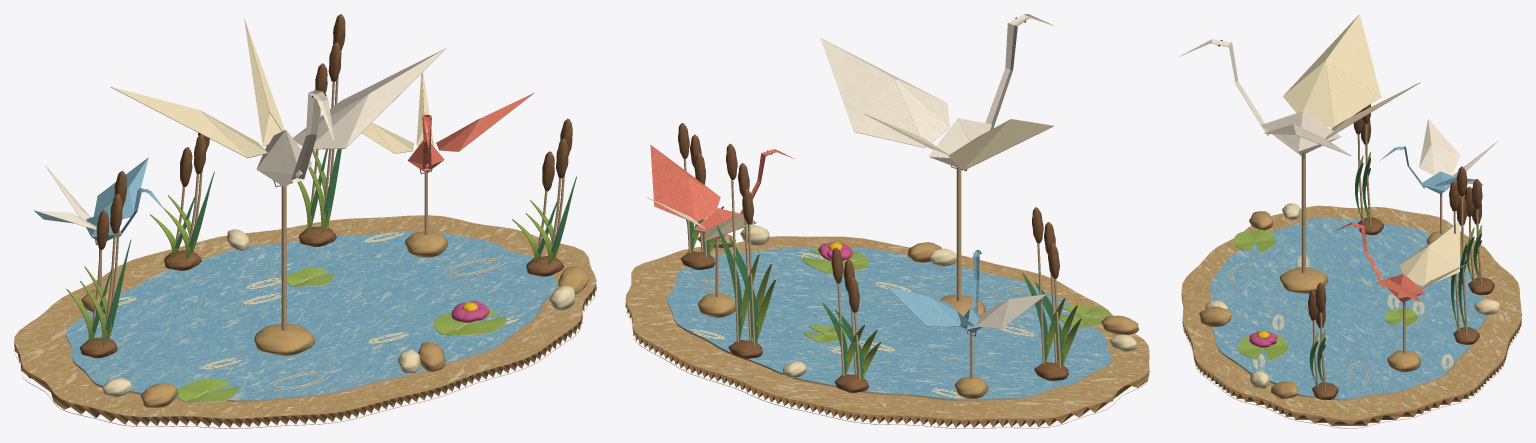
Rendered from 30_origami_crane_wetland.glb.
3 views of the same model, side by side, from view 1: azimuth 30°, elevation 25°; view 2: azimuth 150°, elevation 25°; view 3: azimuth 270°, elevation 25° (orthographic). The views are drawn at different scales.
Visible parts, largest first — view 1: artwork_30_origami_crane_wetland, paper, clay_brown, cream, lime, clay_sand, flute, green, wood, edge, coral, sky (+3 smaller); view 2: artwork_30_origami_crane_wetland, paper, clay_brown, lime, coral, flute, cream, clay_sand, green, wood, sky, edge (+2 smaller); view 3: artwork_30_origami_crane_wetland, cream, paper, clay_brown, clay_sand, lime, flute, wood, green, edge, coral, clay_cream (+2 smaller).
Part boxes in pixels (box(x1,y1,x2,y2)): artwork_30_origami_crane_wetland: box(14, 215, 596, 418); paper: box(34, 19, 534, 402); clay_brown: box(79, 14, 572, 358); cream: box(112, 19, 506, 398); lime: box(66, 149, 557, 401); clay_sand: box(81, 231, 588, 407); flute: box(14, 284, 596, 427); green: box(91, 149, 576, 339); wood: box(92, 76, 564, 346); edge: box(14, 285, 595, 428); coral: box(408, 93, 533, 172); sky: box(34, 157, 165, 240); artwork_30_origami_crane_wetland: box(625, 236, 1149, 419); paper: box(647, 14, 1102, 342); clay_brown: box(678, 123, 1068, 393); lime: box(691, 206, 1110, 379); coral: box(650, 145, 794, 239); flute: box(625, 303, 1149, 427); cream: box(649, 115, 1102, 334); clay_sand: box(697, 234, 1138, 398); green: box(686, 219, 1064, 379); wood: box(683, 158, 1061, 379); sky: box(887, 250, 981, 332); edge: box(625, 298, 1149, 428); artwork_30_origami_crane_wetland: box(1181, 205, 1521, 420); cream: box(1229, 14, 1468, 386); paper: box(1178, 14, 1498, 360); clay_brown: box(1308, 104, 1494, 400); clay_sand: box(1199, 211, 1444, 398); lime: box(1233, 152, 1482, 389); flute: box(1181, 292, 1521, 425); wood: box(1312, 123, 1482, 390); green: box(1309, 157, 1481, 388); edge: box(1181, 289, 1520, 428); coral: box(1333, 222, 1425, 302); clay_cream: box(1205, 203, 1499, 389).
Size of the model in its own units: 0.54 by 0.2954 by 0.3652.
19 materials, 17 textured.
